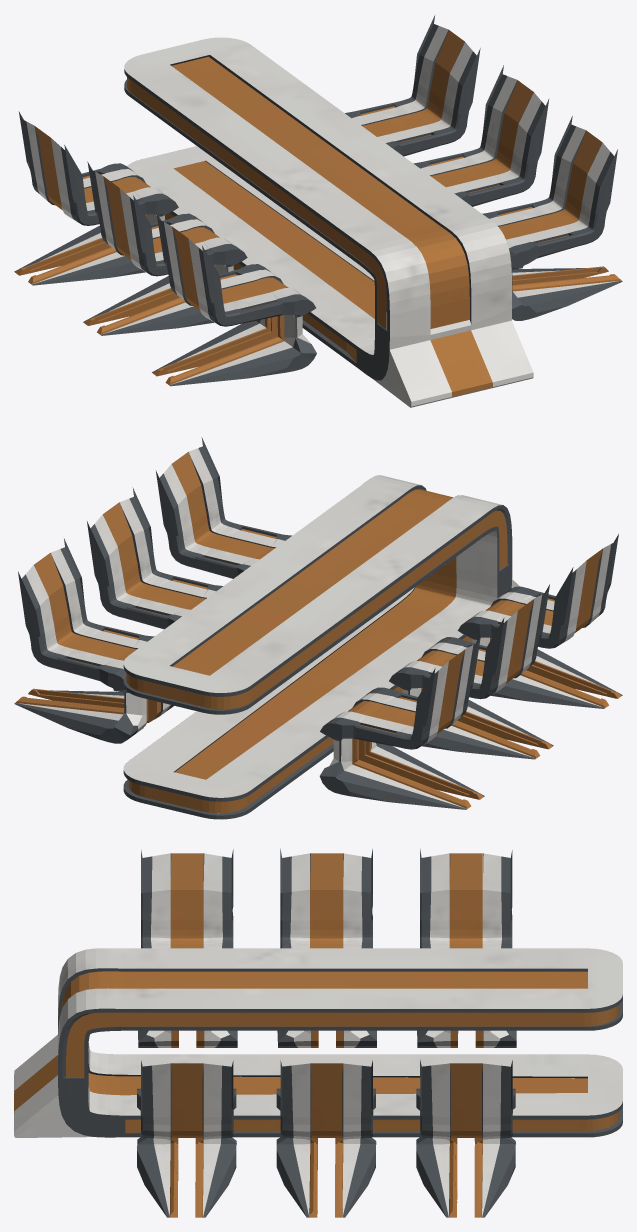
File: table-chairs.glb
The picture shows the model from 3 angles, top to bottom: view 1: azimuth 30°, elevation 25°; view 2: azimuth 150°, elevation 25°; view 3: azimuth 270°, elevation 25°; orthographic projection.
Parts seen in each view (by area): view 1: Object_6, Object_5, Object_4; view 2: Object_6, Object_5, Object_4; view 3: Object_6, Object_5, Object_4.
Part boxes in pixels (left/top/right/bottom): Object_6: left=26, top=26, right=620, bottom=407; Object_5: left=15, top=30, right=621, bottom=396; Object_4: left=14, top=15, right=622, bottom=386; Object_6: left=19, top=448, right=611, bottom=819; Object_5: left=15, top=452, right=621, bottom=813; Object_4: left=14, top=437, right=622, bottom=819; Object_6: left=14, top=853, right=622, bottom=1217; Object_5: left=14, top=853, right=619, bottom=1217; Object_4: left=58, top=848, right=622, bottom=1217.
Bounding box in the file's own units: 1.52 × 0.495 × 1.75.
Materials: 3 (3 with a texture image).
